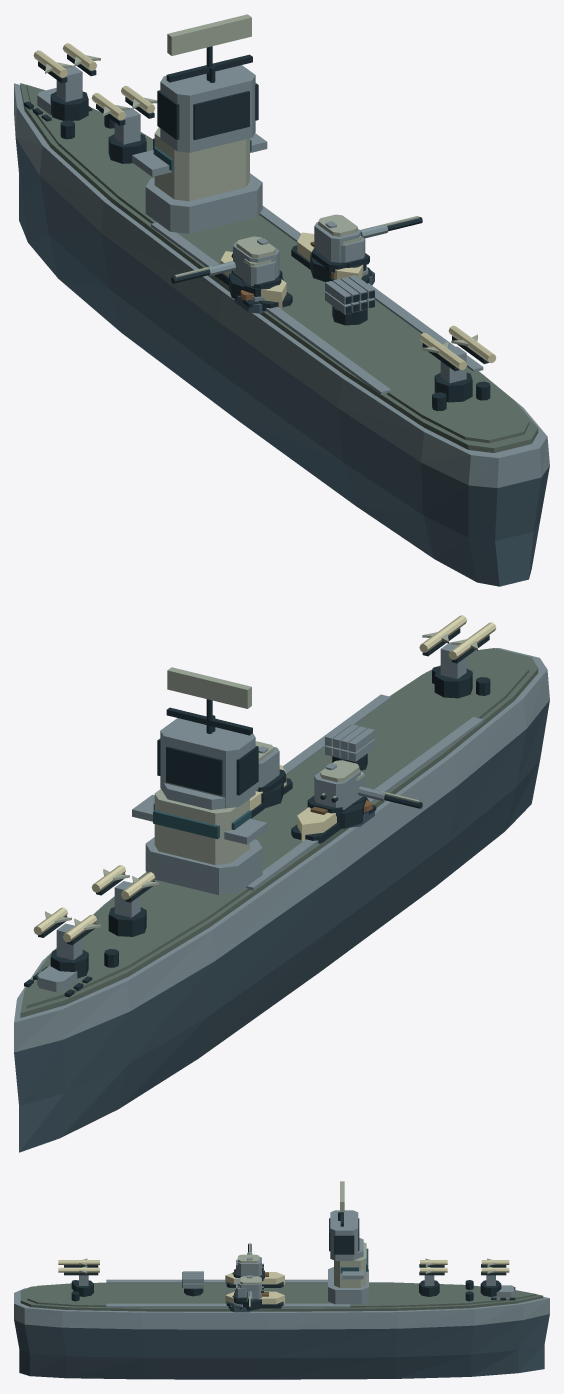
File: historic-long-beach.glb
3 views of the same model, one above another, from view 1: azimuth 30°, elevation 25°; view 2: azimuth 150°, elevation 25°; view 3: azimuth 270°, elevation 25° (orthographic). The views are drawn at different scales.
Parts seen in each view (by area): view 1: historic-long-beach-historic-long-beach-geometry, historic-long-beach-part_bridge.110-geometry, historic-long-beach-naval_launcher_2.001-geometry, historic-long-beach-naval_launcher_0.004-geometry, historic-long-beach-turret_main_1.076-geometry, historic-long-beach-naval_launcher_1.002-geometry, historic-long-beach-turret_main_0.081-geometry, historic-long-beach-naval_launcher_3.001-geometry, historic-long-beach-turret_aa_aa-port.112-geometry, historic-long-beach-turret_aa_aa-starboard.108-geometry; view 2: historic-long-beach-historic-long-beach-geometry, historic-long-beach-part_bridge.110-geometry, historic-long-beach-turret_main_0.081-geometry, historic-long-beach-naval_launcher_2.001-geometry, historic-long-beach-naval_launcher_1.002-geometry, historic-long-beach-naval_launcher_0.004-geometry, historic-long-beach-naval_launcher_3.001-geometry, historic-long-beach-turret_main_1.076-geometry; view 3: historic-long-beach-historic-long-beach-geometry, historic-long-beach-part_bridge.110-geometry, historic-long-beach-naval_launcher_2.001-geometry, historic-long-beach-naval_launcher_1.002-geometry, historic-long-beach-naval_launcher_0.004-geometry, historic-long-beach-turret_main_1.076-geometry, historic-long-beach-turret_main_0.081-geometry, historic-long-beach-naval_launcher_3.001-geometry.
Part boxes in pixels (x1,y1,x2,y2): historic-long-beach-historic-long-beach-geometry: (14, 83, 549, 586); historic-long-beach-part_bridge.110-geometry: (132, 14, 267, 233); historic-long-beach-naval_launcher_2.001-geometry: (419, 325, 496, 402); historic-long-beach-naval_launcher_0.004-geometry: (33, 43, 100, 120); historic-long-beach-turret_main_1.076-geometry: (310, 214, 422, 281); historic-long-beach-naval_launcher_1.002-geometry: (91, 85, 157, 163); historic-long-beach-turret_main_0.081-geometry: (171, 236, 283, 299); historic-long-beach-naval_launcher_3.001-geometry: (325, 275, 374, 325); historic-long-beach-turret_aa_aa-port.112-geometry: (231, 253, 281, 296); historic-long-beach-turret_aa_aa-starboard.108-geometry: (340, 236, 369, 271); historic-long-beach-historic-long-beach-geometry: (14, 648, 549, 1152); historic-long-beach-part_bridge.110-geometry: (132, 667, 267, 895); historic-long-beach-turret_main_0.081-geometry: (307, 760, 422, 828); historic-long-beach-naval_launcher_2.001-geometry: (419, 615, 496, 698); historic-long-beach-naval_launcher_1.002-geometry: (91, 865, 159, 936); historic-long-beach-naval_launcher_0.004-geometry: (33, 907, 100, 978); historic-long-beach-naval_launcher_3.001-geometry: (325, 722, 374, 770); historic-long-beach-turret_main_1.076-geometry: (255, 741, 286, 808); historic-long-beach-historic-long-beach-geometry: (14, 1272, 549, 1379); historic-long-beach-part_bridge.110-geometry: (328, 1181, 368, 1304); historic-long-beach-naval_launcher_2.001-geometry: (58, 1258, 99, 1296); historic-long-beach-naval_launcher_1.002-geometry: (419, 1258, 447, 1296); historic-long-beach-naval_launcher_0.004-geometry: (480, 1258, 509, 1296); historic-long-beach-turret_main_1.076-geometry: (235, 1275, 261, 1310); historic-long-beach-turret_main_0.081-geometry: (237, 1243, 264, 1280); historic-long-beach-naval_launcher_3.001-geometry: (182, 1271, 203, 1296).
Bounding box in the file's own units: 1.22 × 1.58 × 4.32.
